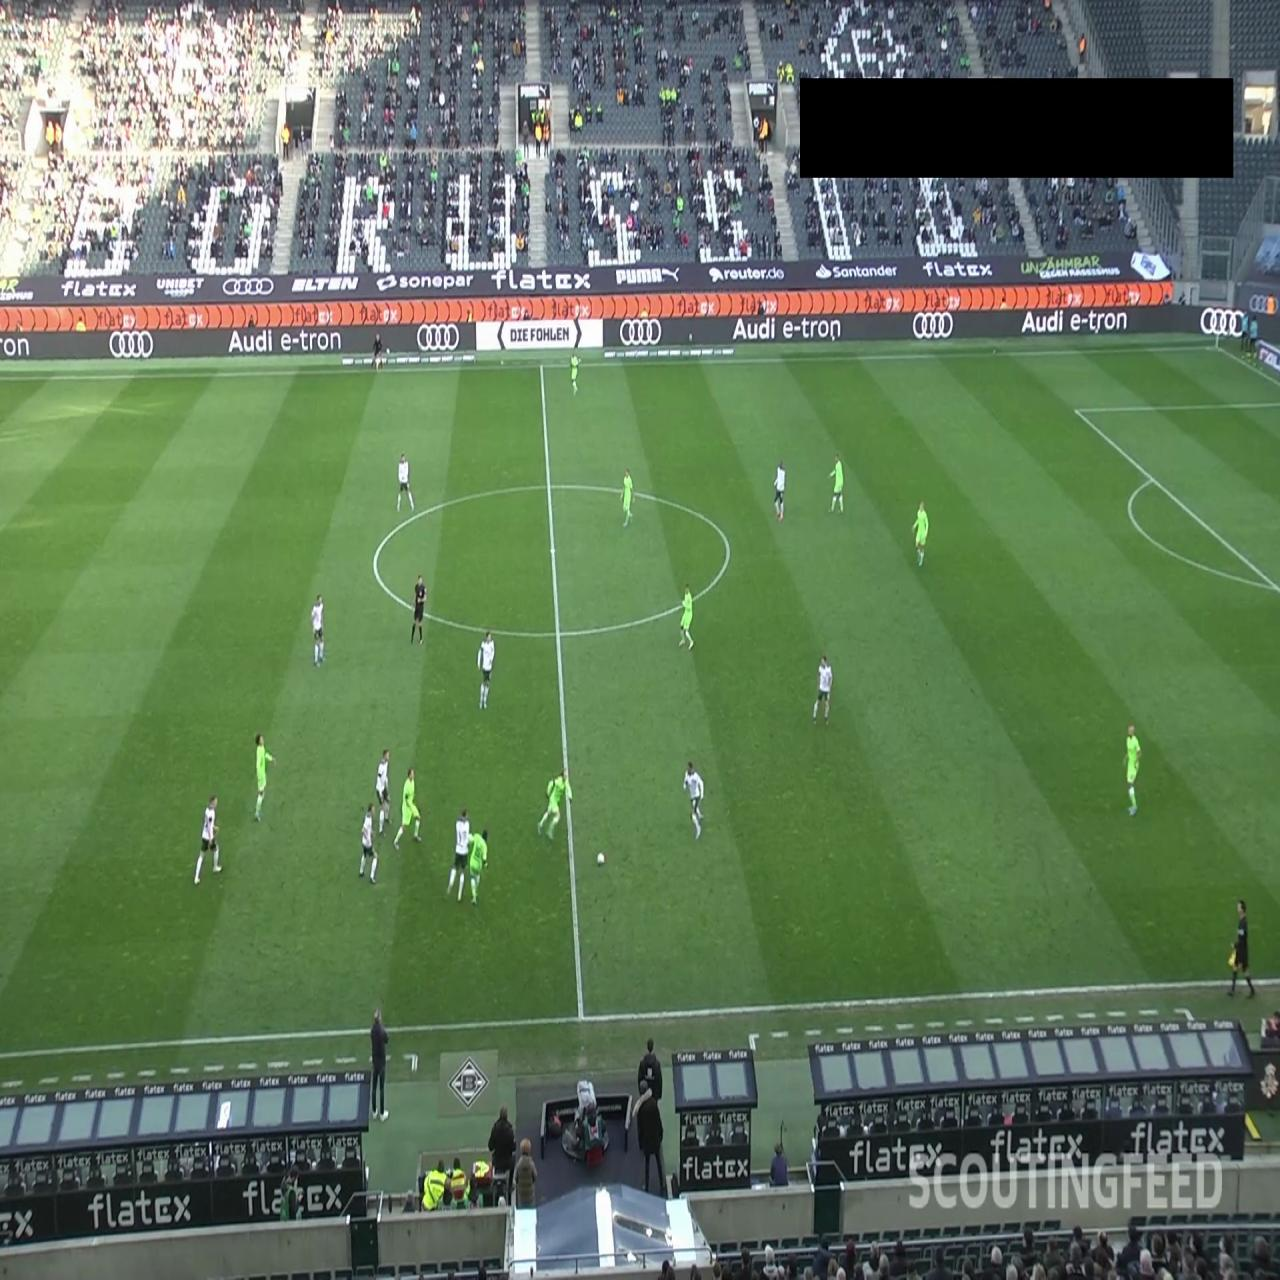ball: (598, 851, 606, 865)
player: (193, 793, 222, 884), (445, 806, 472, 902), (538, 768, 574, 839), (393, 766, 422, 850), (253, 732, 277, 822), (1123, 722, 1142, 815), (683, 760, 704, 840), (358, 804, 378, 884), (468, 828, 488, 906), (812, 653, 833, 725), (477, 629, 495, 710), (375, 748, 391, 835), (911, 499, 929, 568), (678, 582, 695, 651), (396, 452, 415, 512), (826, 453, 844, 513), (310, 594, 324, 666), (621, 467, 634, 529), (774, 460, 786, 521), (569, 346, 581, 399)
referee: (1227, 898, 1255, 999), (410, 572, 427, 646), (372, 333, 383, 370)
